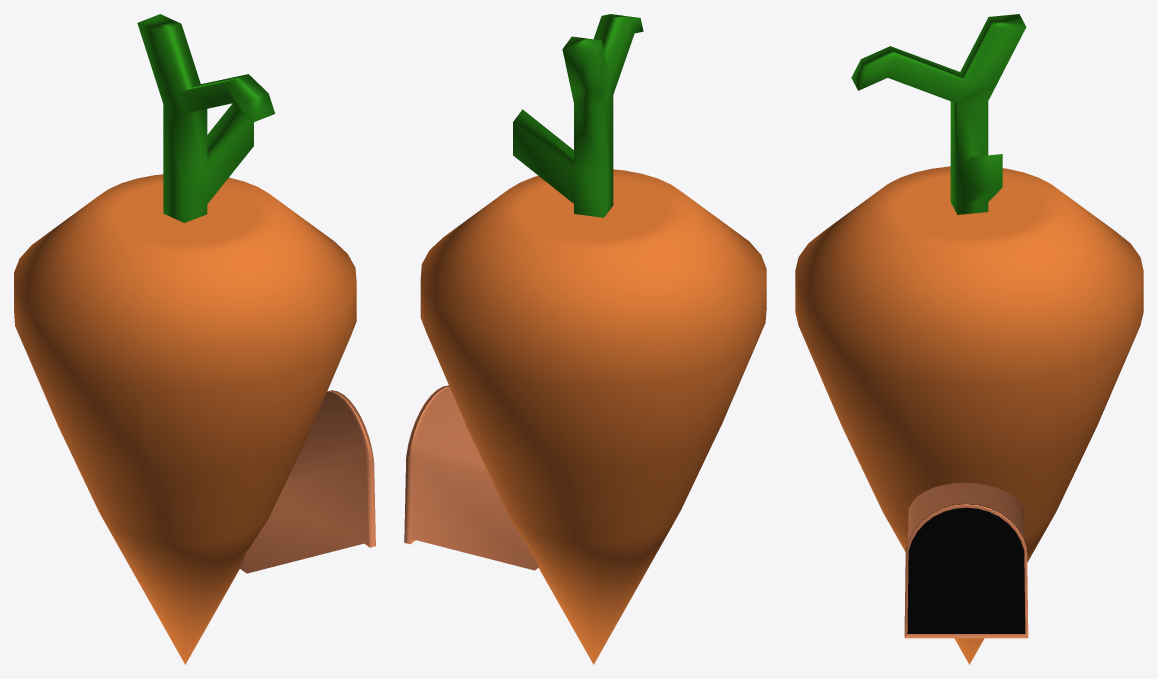
File: carrothouse.fbx
3 views of the same model, side by side, from view 1: azimuth 30°, elevation 25°; view 2: azimuth 150°, elevation 25°; view 3: azimuth 270°, elevation 25° (orthographic).
Parts seen in each view (by area): view 1: Cube; view 2: Cube; view 3: Cube.
Part boxes in pixels (<box>): Cube: <box>14,14,375,664</box>; Cube: <box>404,14,766,664</box>; Cube: <box>795,14,1143,664</box>.
Size of the model in its own units: 508 by 994 by 491.
